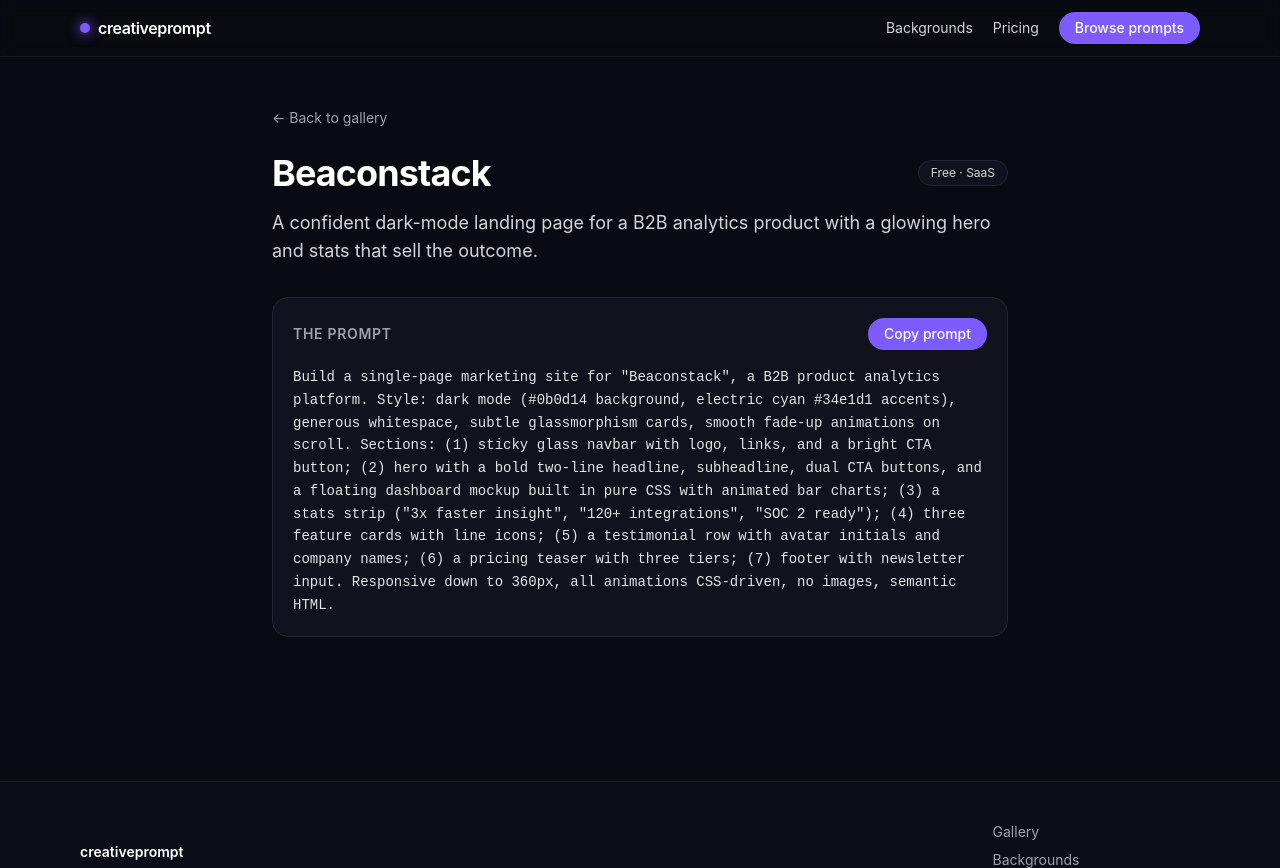
Test: PromptDetail › copy button flips to Copied! after clicking
Expected: the element with test id "copy-button" does not show "Copied!"
Step 1. Click the button with test id "copy-button" → [928, 334], box [868,318,987,350]
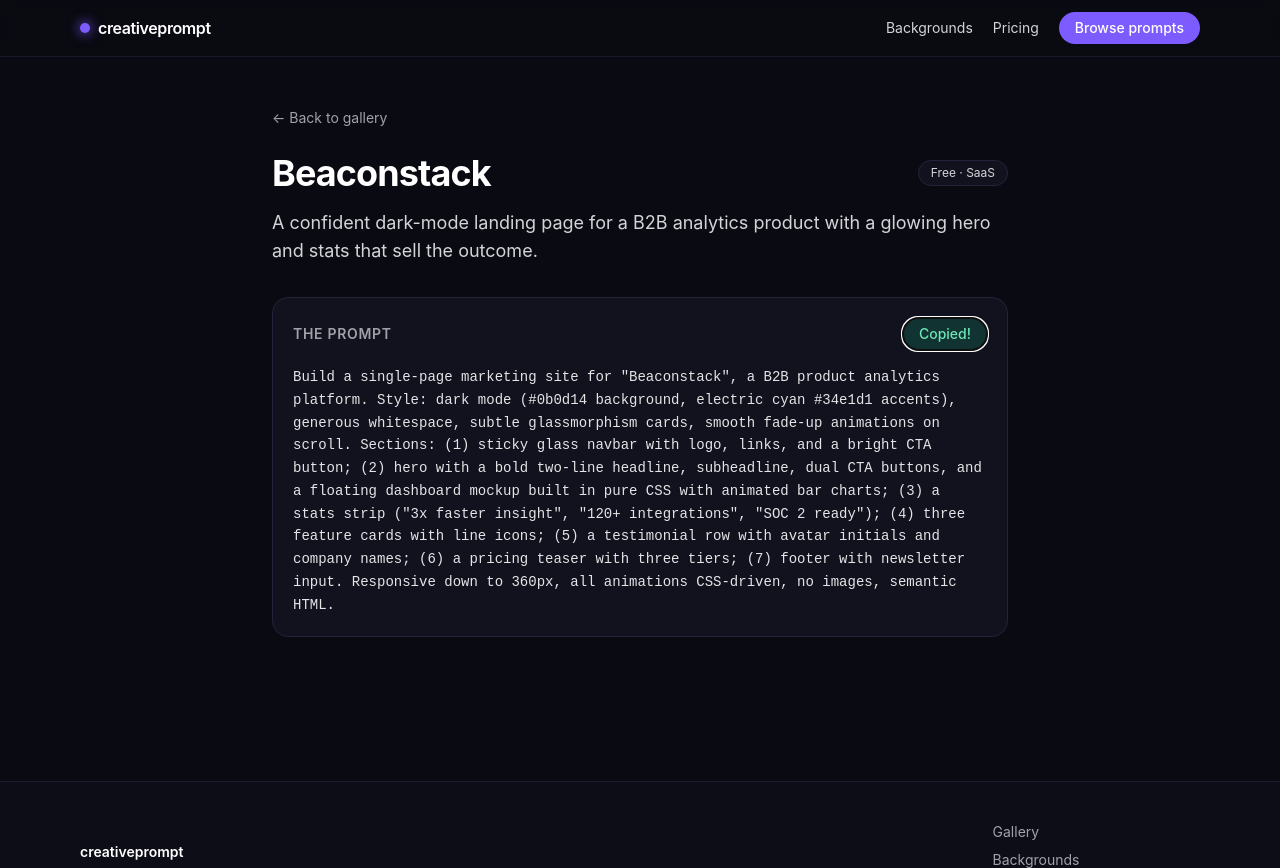
Result: the button with test id "copy-button" reads "Copied!" at [903,318,987,350]
